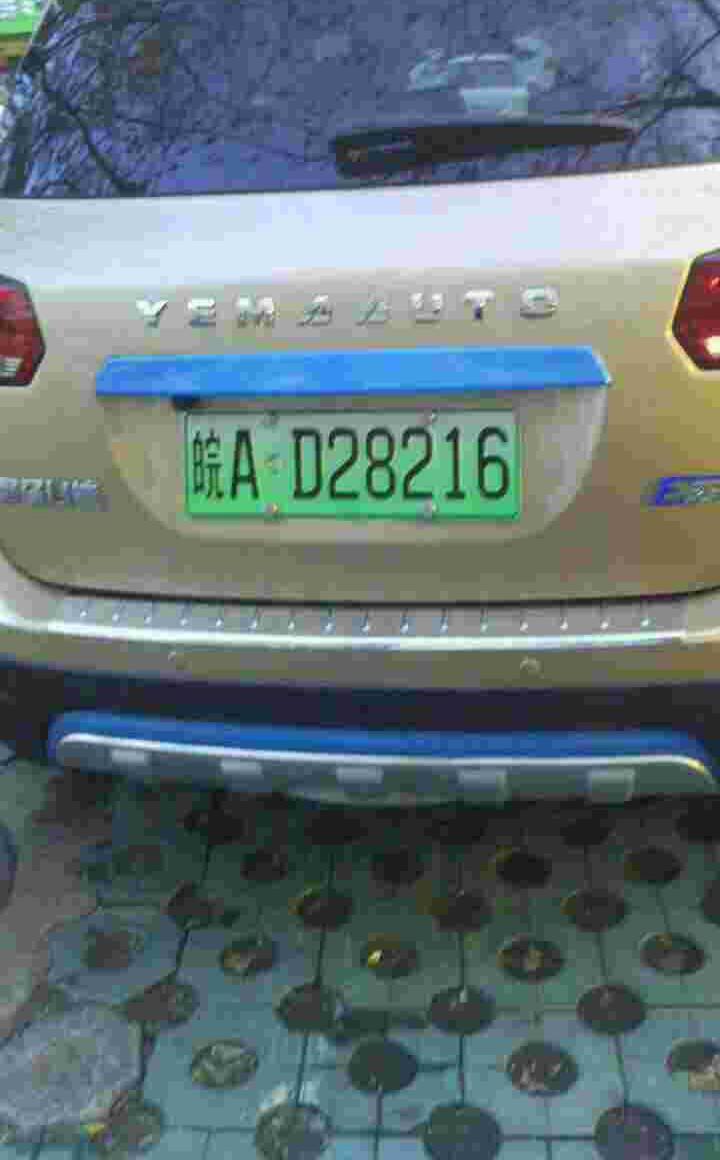car_id: (180, 412, 522, 515)
